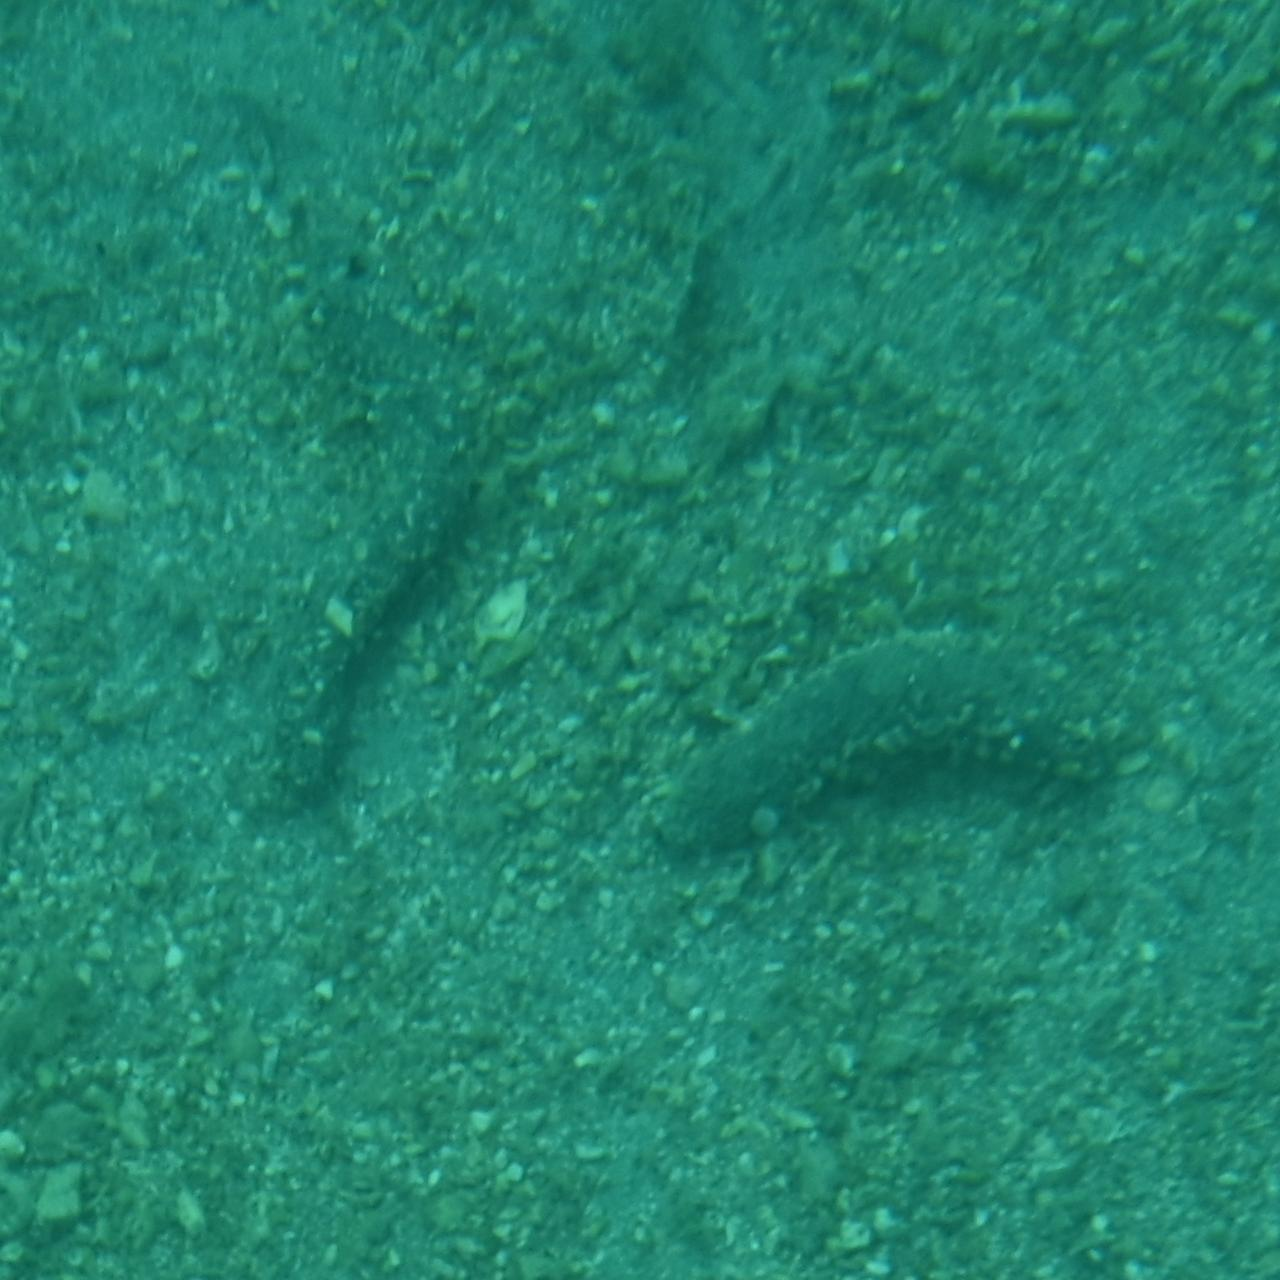Holothuria tubulosa: (642, 622, 1171, 876), (251, 259, 496, 805)
